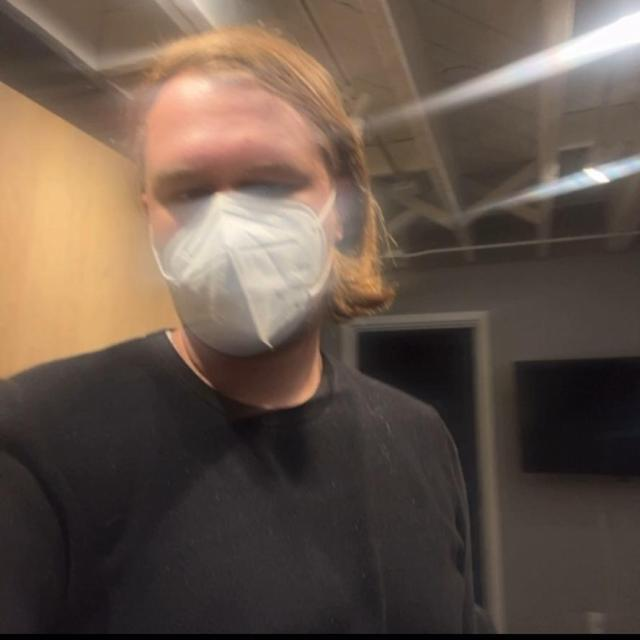no hat: (127, 41, 398, 376)
